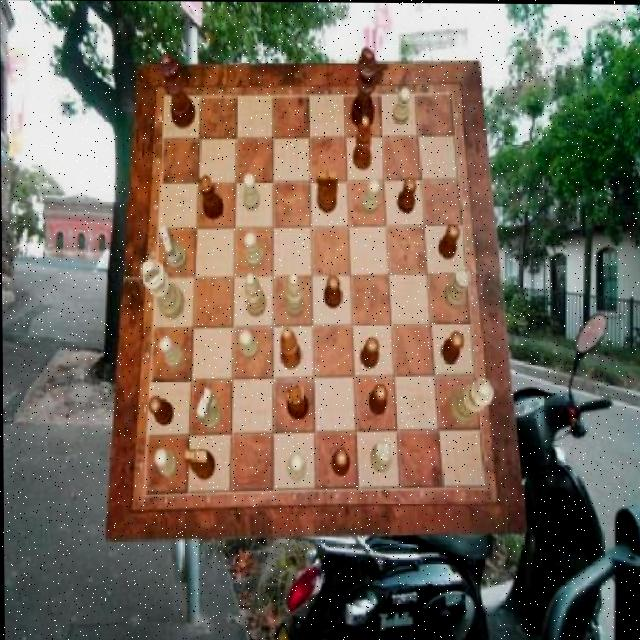bishop: (353, 114, 371, 169), (280, 326, 302, 369)
black-bishop: (351, 47, 379, 129)
black-king: (316, 169, 338, 213), (184, 449, 214, 480)
black-knight: (438, 223, 461, 259), (440, 332, 464, 364), (398, 178, 418, 214), (149, 396, 173, 425), (360, 336, 380, 368), (323, 276, 341, 310), (369, 384, 388, 415), (331, 448, 350, 476)
black-pawn: (159, 53, 195, 130)
black-queen: (198, 173, 223, 219), (287, 383, 310, 419)
black-rook: (245, 272, 266, 316), (285, 272, 305, 318)
white-bishop: (140, 259, 184, 320)
white-king: (160, 226, 188, 271), (196, 389, 221, 429)
white-knight: (159, 336, 185, 371), (244, 231, 265, 267), (153, 449, 177, 478), (244, 172, 261, 211), (393, 87, 410, 125), (363, 179, 380, 213), (239, 331, 259, 358), (287, 452, 306, 480)
white-pawn: (448, 377, 493, 423)
white-queen: (443, 265, 470, 308), (370, 437, 393, 472)
